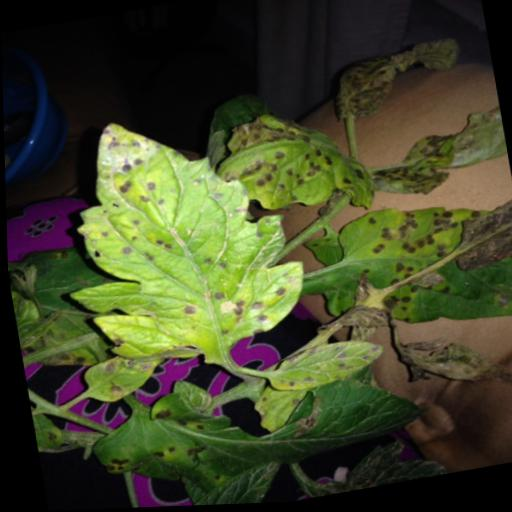Septoria: (41, 89, 310, 383), (57, 354, 428, 508), (193, 97, 392, 237), (364, 195, 512, 346), (322, 197, 484, 303), (357, 105, 512, 208), (250, 324, 412, 399), (60, 346, 167, 408)
